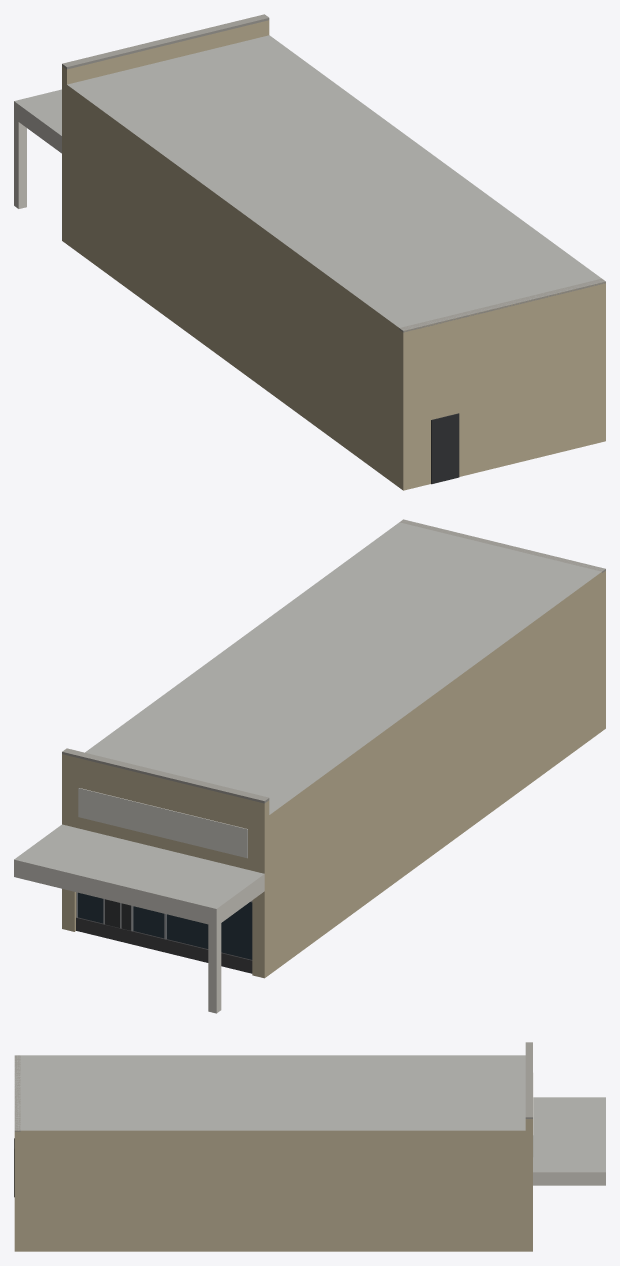
Rendered from strip_mall_bay_7p3_a.glb.
The picture shows the model from 3 angles, top to bottom: view 1: azimuth 30°, elevation 25°; view 2: azimuth 150°, elevation 25°; view 3: azimuth 270°, elevation 25°; orthographic projection. The views are drawn at different scales.
Visible parts, largest first — view 1: strip_mall_bay_7p3_a-col; view 2: strip_mall_bay_7p3_a-col; view 3: strip_mall_bay_7p3_a-col.
Part boxes in pixels (<box>): strip_mall_bay_7p3_a-col: <box>14,14,605,490</box>; strip_mall_bay_7p3_a-col: <box>14,519,605,1013</box>; strip_mall_bay_7p3_a-col: <box>14,1042,605,1251</box>.
Size of the model in its own units: 7.3 by 6.1 by 24.33.
